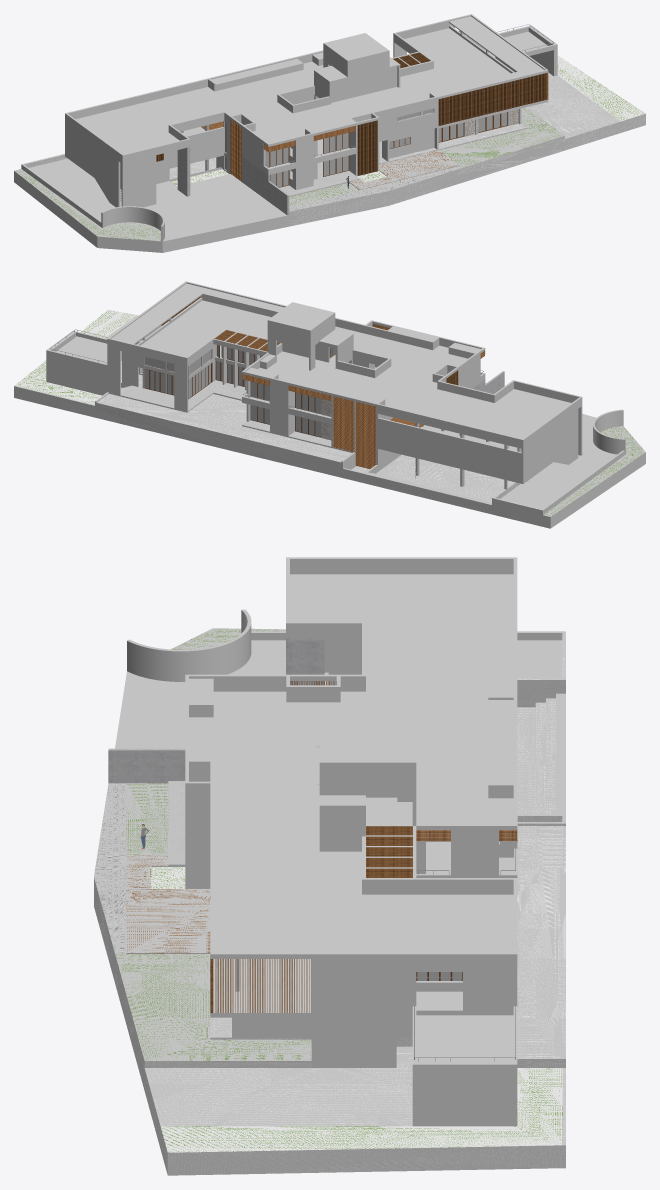
Rendered from residence.glb.
The picture shows the model from 3 angles, top to bottom: view 1: azimuth 30°, elevation 25°; view 2: azimuth 150°, elevation 25°; view 3: azimuth 270°, elevation 25°; orthographic projection. The views are drawn at different scales.
Visible parts, largest first — view 1: group_12, group_746, group_748.001, group_359, group_9, group_748.015, group_8, group_602.001, group_748.024, group_746.001, group_34, group_748.016 (+16 smaller); view 2: group_12, group_748.001, group_8, group_359, group_746, group_748.004, group_9, group_358, group_602.001, group_675.008, group_748.024, group_741 (+12 smaller); view 3: group_12, group_748.001, group_359, group_746, group_748.024, group_358, group_748.015, group_602.001, group_9, group_602, group_748.016, group_675.004 (+14 smaller).
Boxes of the visible parts, x1,y1,x2,y2 form: group_12: [76, 28, 510, 154]; group_746: [14, 158, 287, 252]; group_748.001: [169, 72, 645, 226]; group_359: [209, 14, 548, 174]; group_9: [65, 63, 301, 207]; group_748.015: [439, 107, 564, 167]; group_8: [65, 122, 205, 207]; group_602.001: [429, 16, 544, 97]; group_748.024: [557, 55, 645, 121]; group_746.001: [14, 169, 160, 241]; group_34: [314, 66, 397, 103]; group_748.016: [349, 150, 459, 189]; group_12: [140, 300, 571, 438]; group_748.001: [14, 315, 520, 502]; group_8: [378, 409, 578, 489]; group_359: [107, 281, 485, 434]; group_746: [341, 409, 645, 528]; group_748.004: [14, 386, 542, 518]; group_9: [295, 367, 582, 455]; group_358: [46, 330, 107, 395]; group_602.001: [111, 283, 284, 343]; group_675.008: [109, 316, 267, 390]; group_748.024: [15, 309, 136, 404]; group_741: [120, 369, 342, 449]; group_12: [213, 574, 513, 933]; group_748.001: [94, 698, 565, 1175]; group_359: [185, 674, 517, 1015]; group_746: [115, 609, 564, 748]; group_748.024: [160, 1068, 562, 1152]; group_358: [412, 1006, 517, 1126]; group_748.015: [115, 954, 311, 1060]; group_602.001: [214, 848, 513, 991]; group_9: [286, 557, 517, 783]; group_602: [210, 799, 517, 1017]; group_748.016: [126, 855, 210, 953]; group_675.004: [232, 990, 396, 1067].
Bounding box in the file's own units: 73.68 × 13.1 × 28.03.
Materials: 29 (13 with a texture image).
